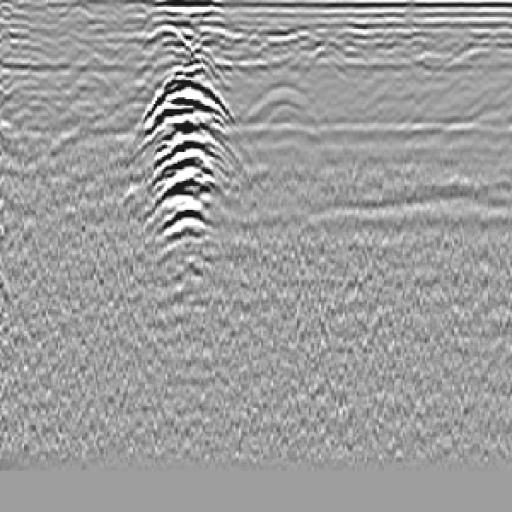metalic: (126, 19, 252, 304)
nonmetalic: (219, 74, 363, 182)
